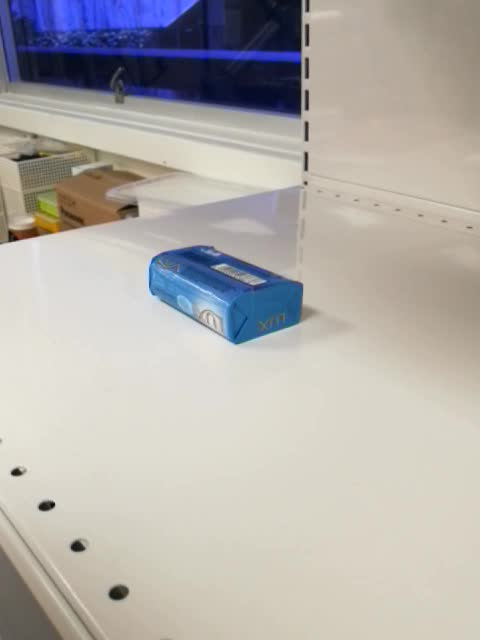soap: (148, 244, 305, 347)
